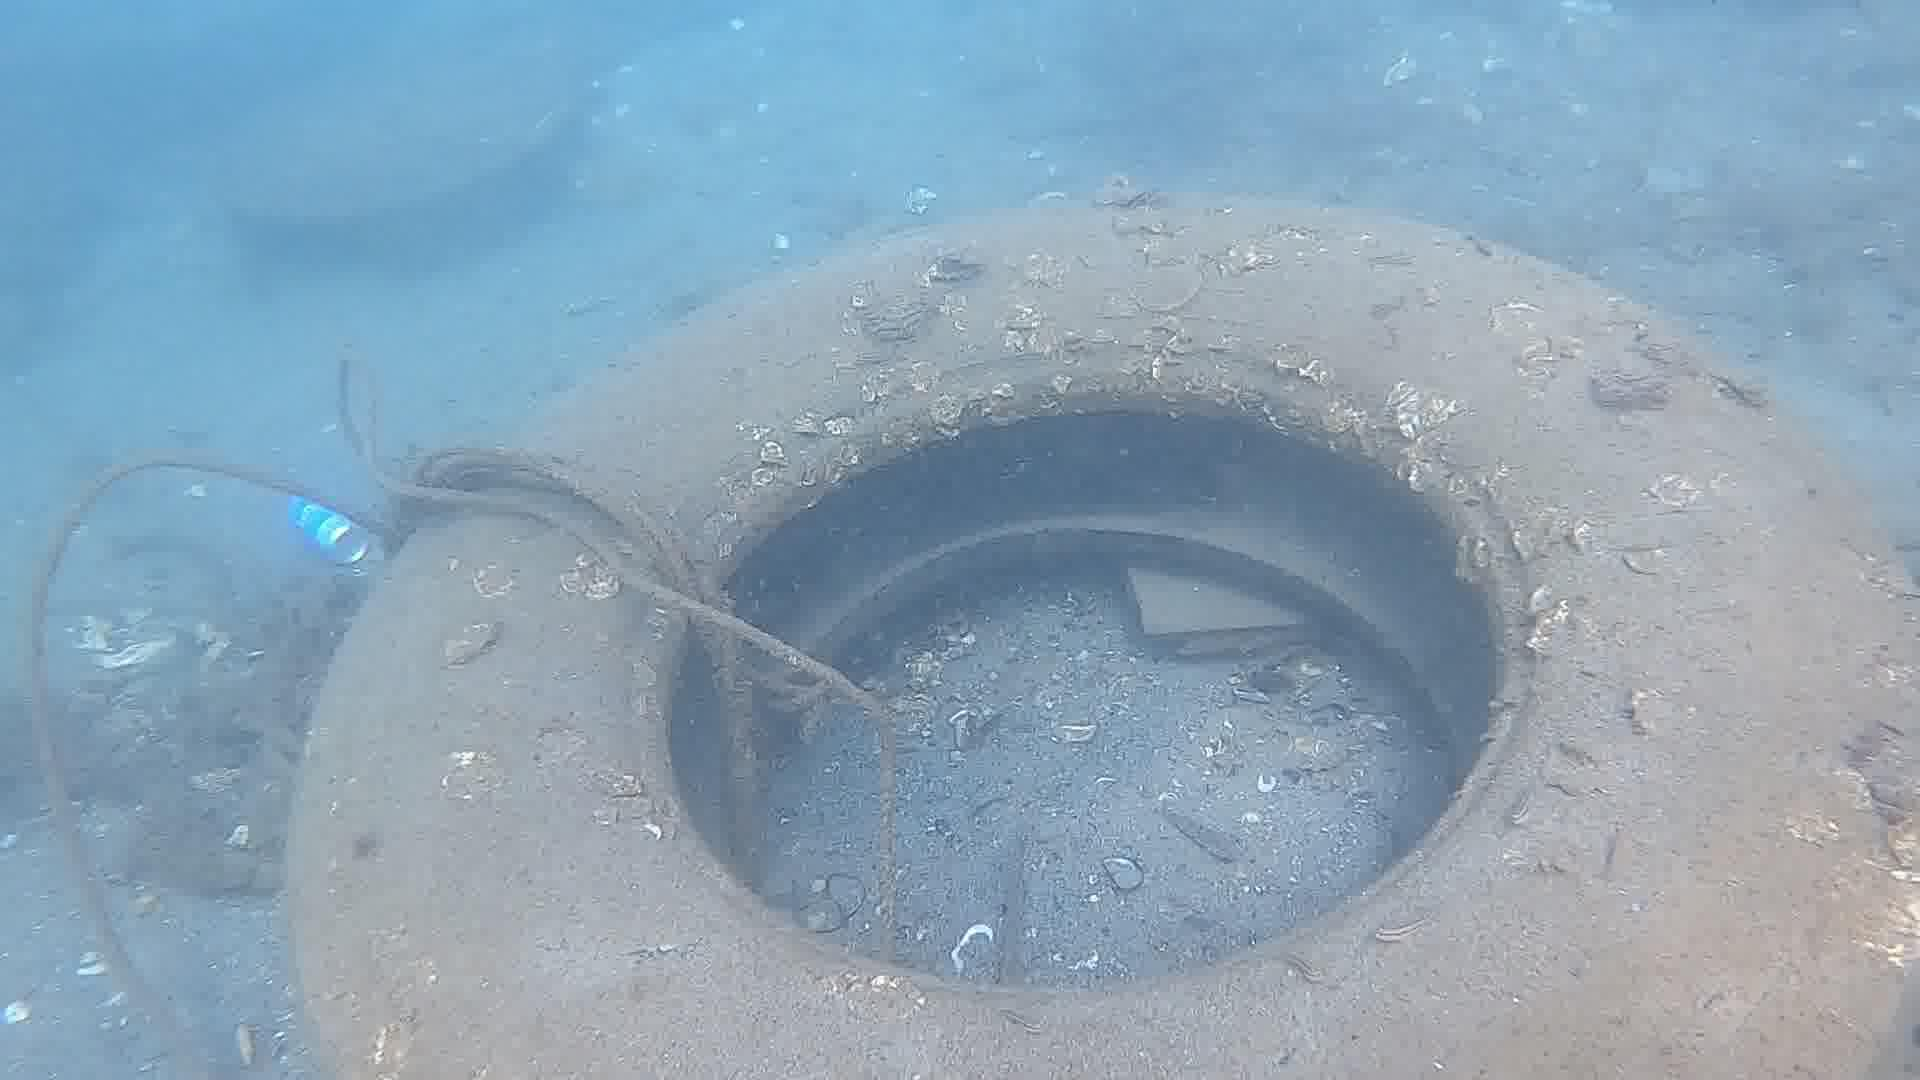bundle of ropes: (26, 340, 899, 1080)
tire: (278, 199, 1920, 1080)
